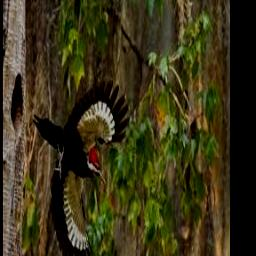Woodpecker: (33, 77, 132, 256)
